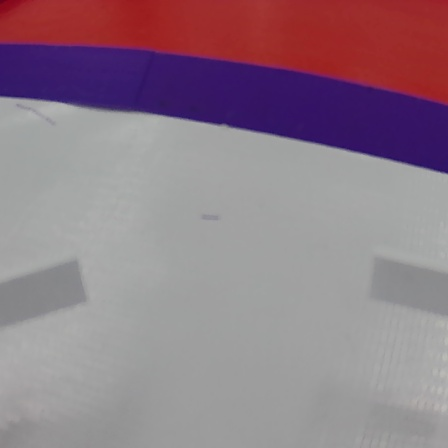red_aim: (0, 0, 447, 178)
